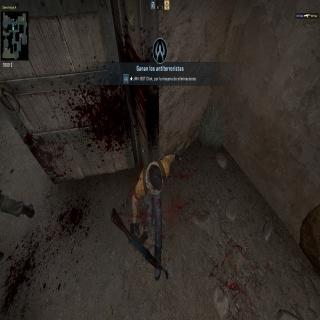T-Head: (148, 162, 164, 193)
